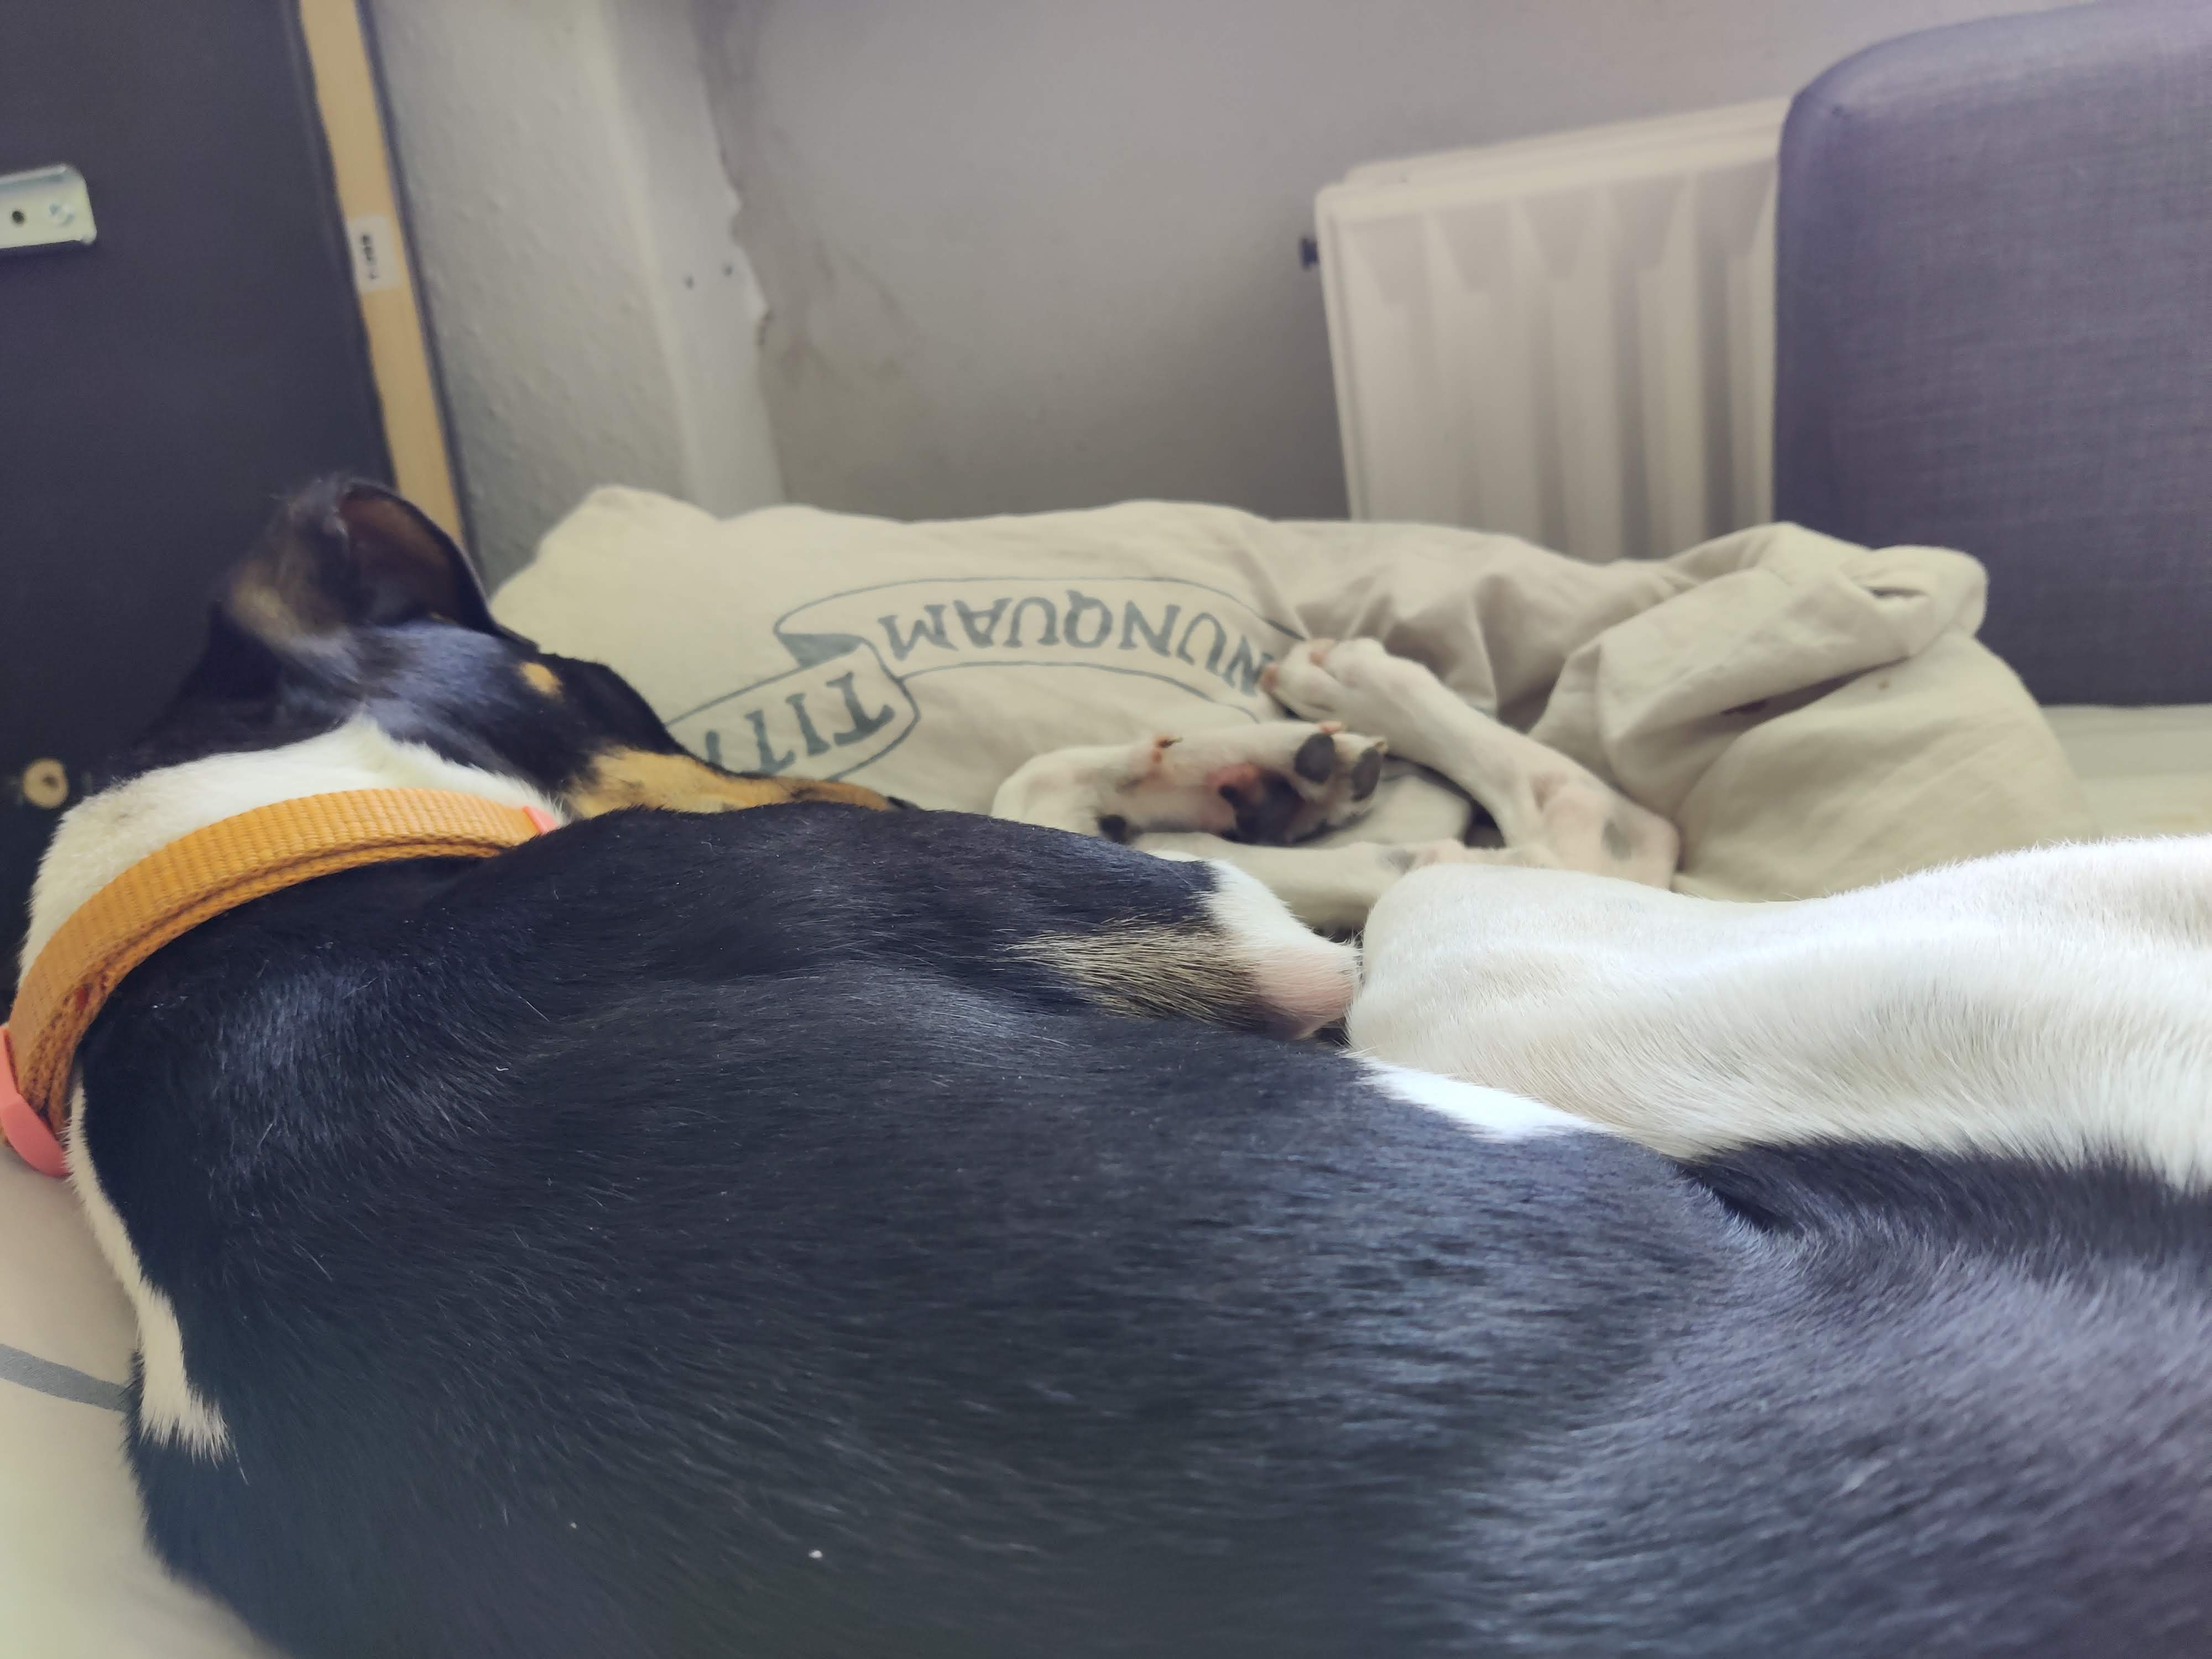Dog: (0, 429, 2212, 1659)
